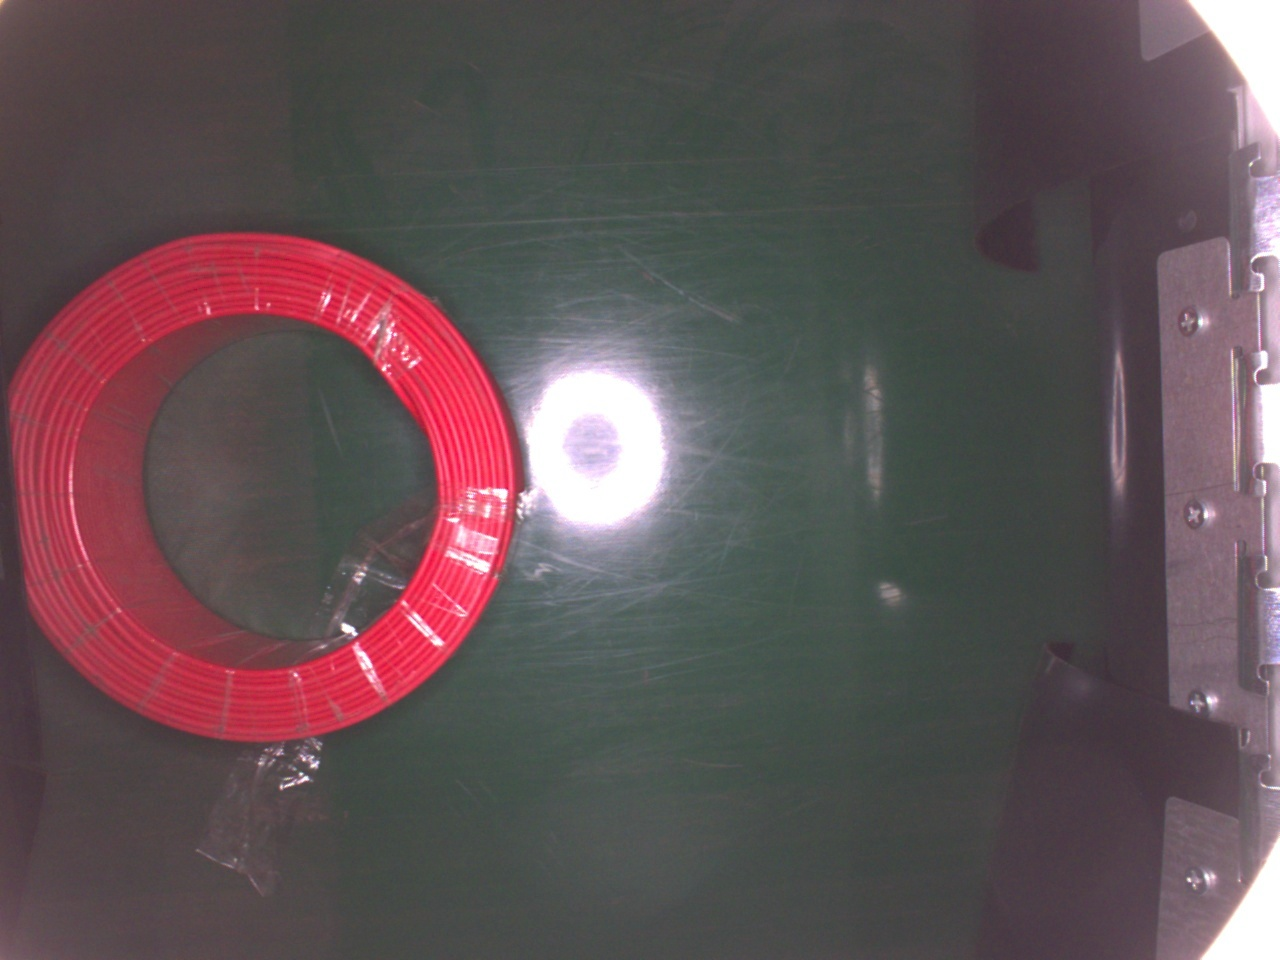red: (6, 230, 517, 742)
